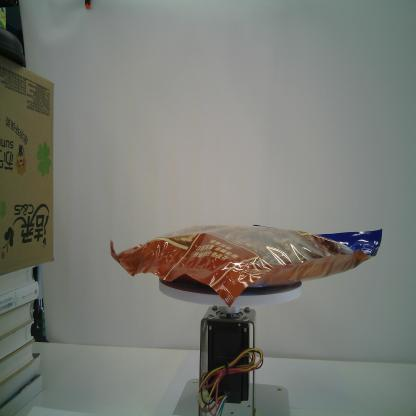Dried Food: (108, 221, 384, 308)
